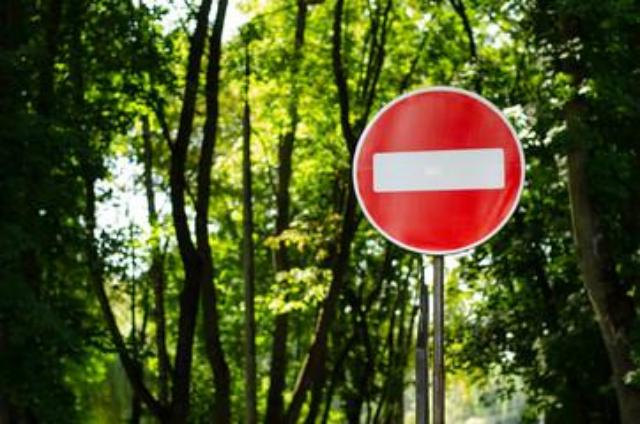B2: (349, 82, 527, 256)
